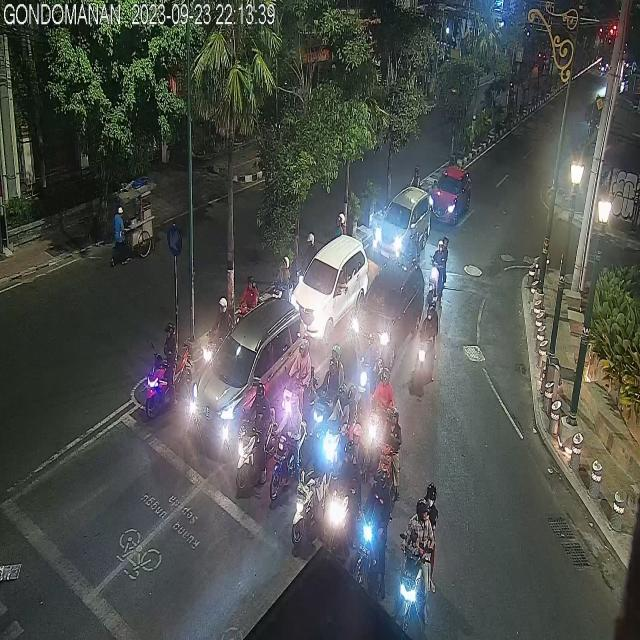car: (190, 299, 308, 449), (291, 234, 368, 343), (352, 261, 425, 361), (376, 188, 431, 265), (427, 163, 480, 229)
motorcycle: (396, 478, 442, 628), (351, 467, 392, 608), (144, 325, 190, 422), (234, 382, 270, 496), (270, 396, 306, 496), (415, 300, 443, 392), (379, 403, 405, 501), (368, 372, 395, 450), (206, 294, 228, 356), (428, 231, 446, 304)
